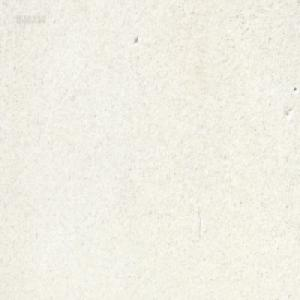Wrench: (183, 0, 189, 5)
